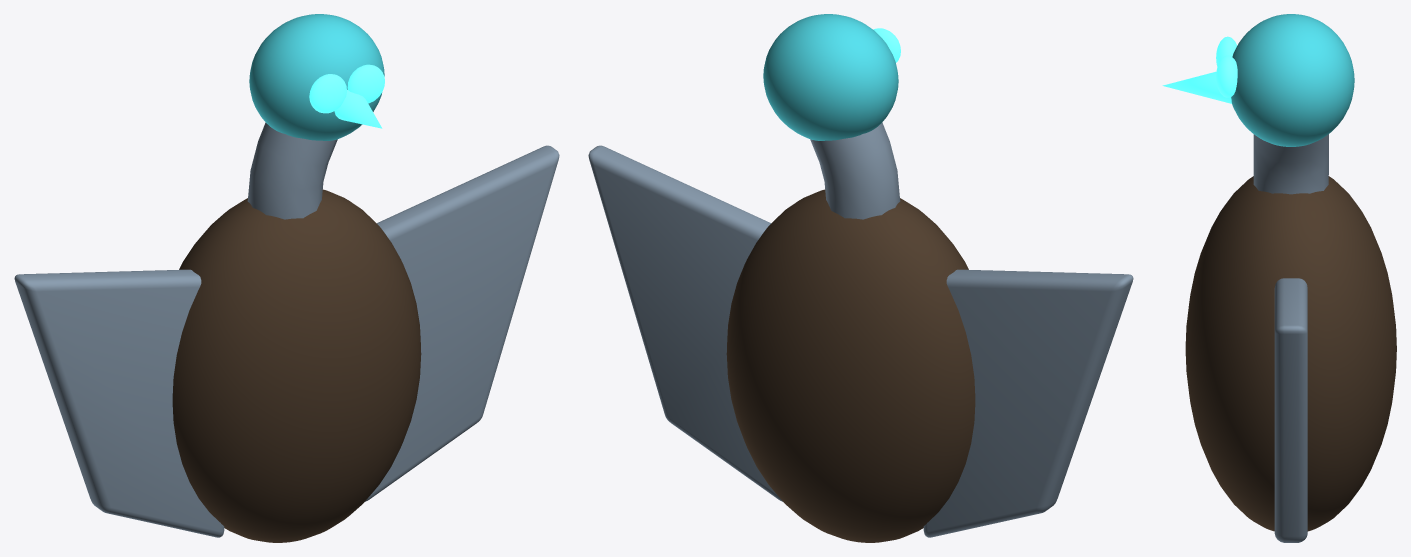
File: avian_v5.glb
The picture shows the model from 3 angles, left to right: view 1: azimuth 30°, elevation 25°; view 2: azimuth 150°, elevation 25°; view 3: azimuth 270°, elevation 25°; orthographic projection.
Visible parts, largest first — view 1: VULTURE_BODY_SECONDARY, VULTURE_WING_PRIMARY, VULTURE_WING_PRIMARY.001, VULTURE_HEAD_ACCENT, VULTURE_NECK_PRIMARY, EYE_EMISSIVE, EYE_EMISSIVE.001, VULTURE_BEAK_EMISSIVE; view 2: VULTURE_BODY_SECONDARY, VULTURE_WING_PRIMARY, VULTURE_WING_PRIMARY.001, VULTURE_HEAD_ACCENT, VULTURE_NECK_PRIMARY; view 3: VULTURE_BODY_SECONDARY, VULTURE_HEAD_ACCENT, VULTURE_WING_PRIMARY.001, VULTURE_NECK_PRIMARY, VULTURE_BEAK_EMISSIVE, EYE_EMISSIVE.001, EYE_EMISSIVE.
Part boxes in pixels (left/top/right/bottom): VULTURE_BODY_SECONDARY: left=172, top=189, right=421, bottom=542; VULTURE_WING_PRIMARY: left=14, top=269, right=224, bottom=537; VULTURE_WING_PRIMARY.001: left=365, top=145, right=559, bottom=501; VULTURE_HEAD_ACCENT: left=249, top=14, right=384, bottom=140; VULTURE_NECK_PRIMARY: left=247, top=122, right=337, bottom=219; EYE_EMISSIVE: left=309, top=74, right=346, bottom=113; EYE_EMISSIVE.001: left=347, top=64, right=384, bottom=103; VULTURE_BEAK_EMISSIVE: left=334, top=90, right=382, bottom=128; VULTURE_BODY_SECONDARY: left=726, top=189, right=975, bottom=542; VULTURE_WING_PRIMARY: left=923, top=269, right=1133, bottom=537; VULTURE_WING_PRIMARY.001: left=588, top=145, right=782, bottom=501; VULTURE_HEAD_ACCENT: left=763, top=14, right=898, bottom=140; VULTURE_NECK_PRIMARY: left=810, top=122, right=900, bottom=219; VULTURE_BODY_SECONDARY: left=1185, top=176, right=1396, bottom=531; VULTURE_HEAD_ACCENT: left=1231, top=14, right=1354, bottom=146; VULTURE_WING_PRIMARY.001: left=1274, top=278, right=1307, bottom=542; VULTURE_NECK_PRIMARY: left=1253, top=134, right=1328, bottom=194; VULTURE_BEAK_EMISSIVE: left=1162, top=71, right=1231, bottom=103; EYE_EMISSIVE.001: left=1216, top=55, right=1237, bottom=97; EYE_EMISSIVE: left=1216, top=36, right=1237, bottom=66.
Size of the model in its own units: 2.68 by 2.43 by 1.
